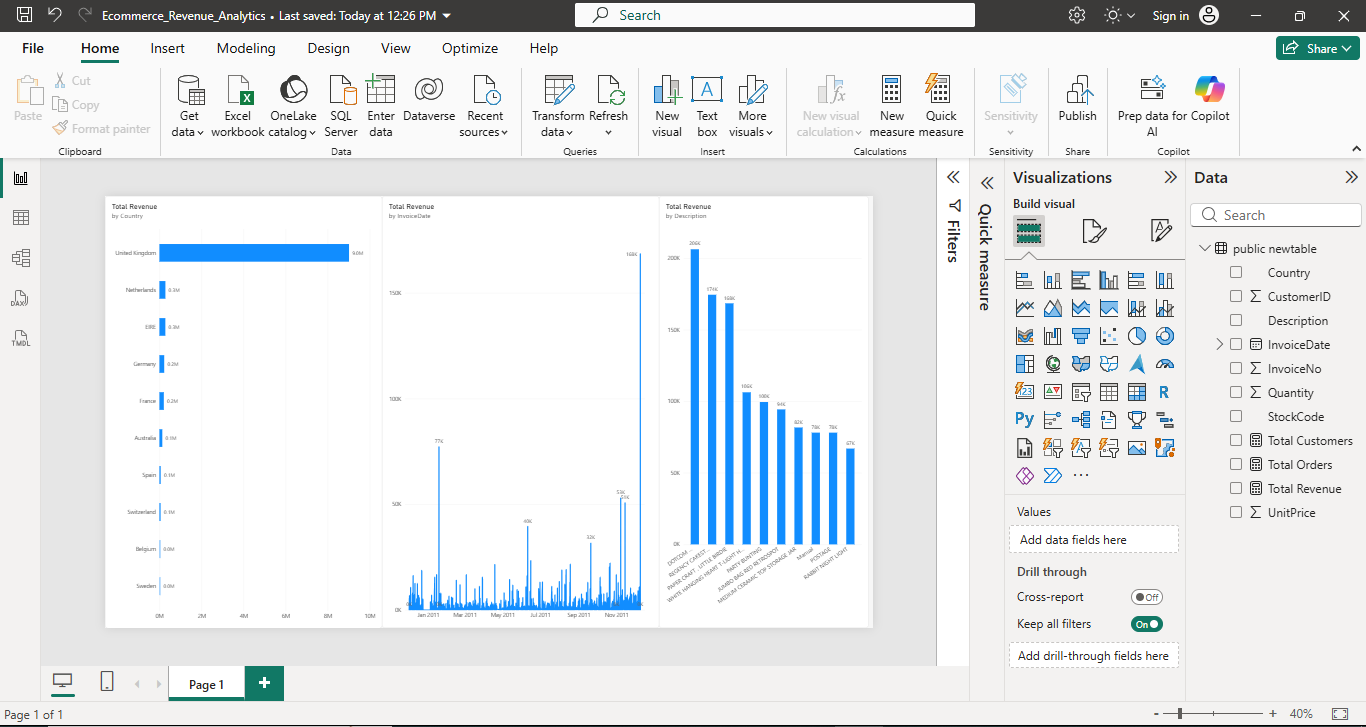

This screenshot's page, from the dashboard's own definition file:
{"tool":"powerbi","page":{"name":"Page 1","canvas":[1920,1080],"ordinal":0},"visuals":[{"type":"clusteredBarChart","fields":{"Category":["public newtable.Country"],"Y":["public newtable.Total Revenue"]},"box":[0,0,692.9,1080.9],"z":0},{"type":"lineChart","fields":{"Category":["public newtable.InvoiceDate"],"Y":["public newtable.Total Revenue"]},"box":[692.5,0,693,1080],"z":1000},{"type":"clusteredColumnChart","fields":{"Category":["public newtable.Description"],"Y":["public newtable.Total Revenue"]},"box":[1385.8,0,524,1080],"z":2000}]}

Visuals, with their boxes in screenshot pixels (x1, y1, x2, y2):
clusteredBarChart - public newtable.Country x public newtable.Total Revenue: 0, 28, 382, 719
lineChart - public newtable.InvoiceDate x public newtable.Total Revenue: 382, 28, 825, 719
clusteredColumnChart - public newtable.Description x public newtable.Total Revenue: 825, 28, 1160, 719
